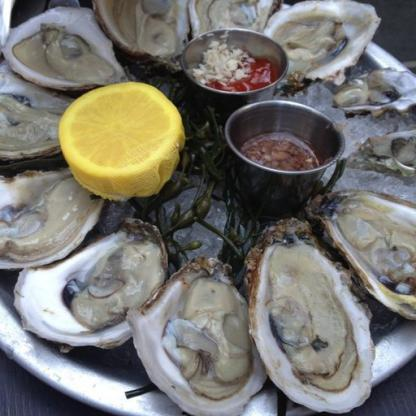oyster: (246, 218, 376, 414), (132, 258, 270, 415), (16, 218, 164, 346), (322, 186, 415, 320), (0, 164, 108, 274), (7, 4, 134, 89), (266, 0, 382, 82), (92, 0, 188, 56)
